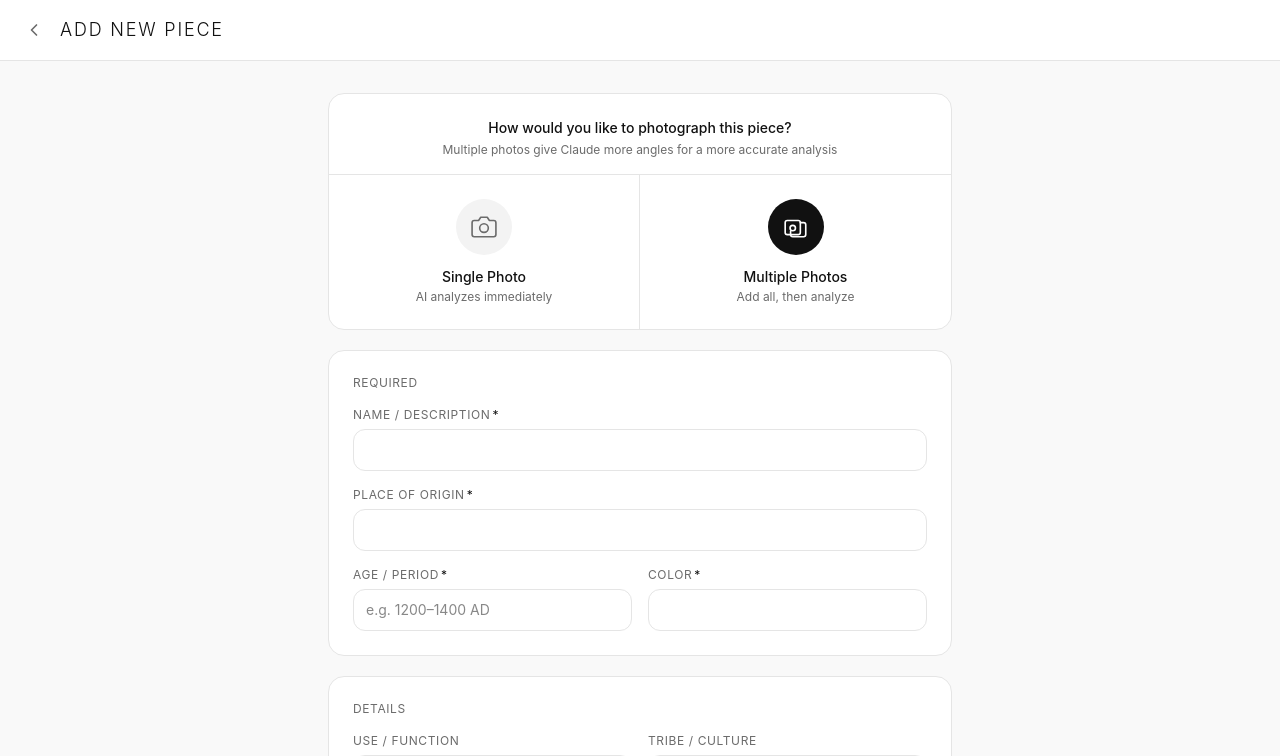
Scenario: AddPage › lets the user switch photo mode back to the picker
Click the text "Multiple Photos": (795, 277) [736,267,854,287]
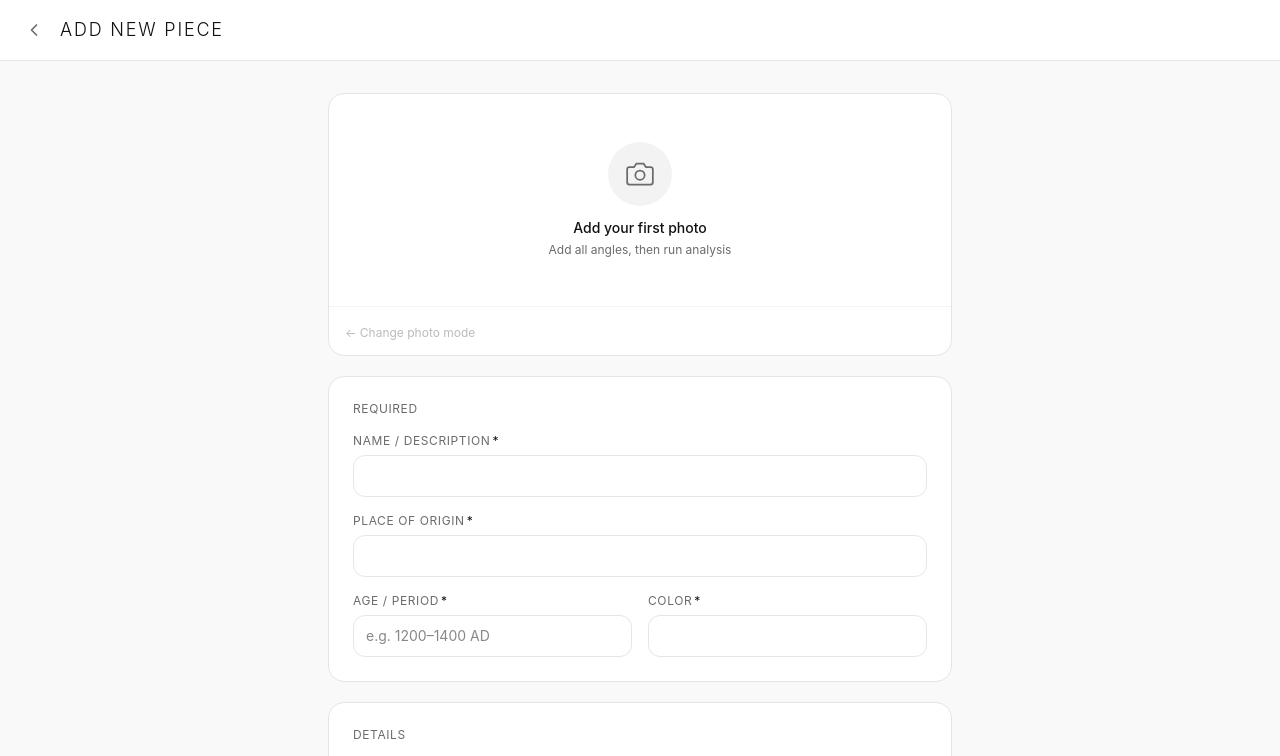
Click the button "← Change photo mode": (410, 333) [345,325,475,341]
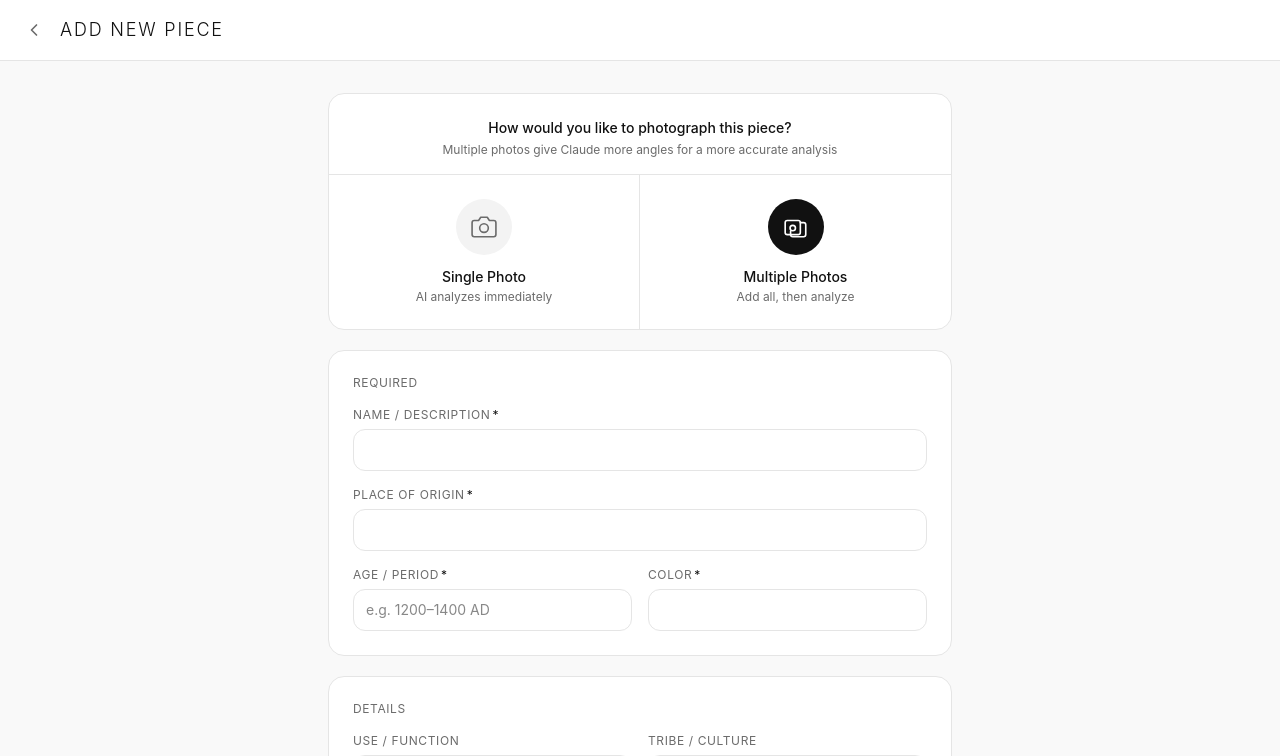
Now the text "How would you like to photograph this piece?" is shown, box [488,119,792,136]
